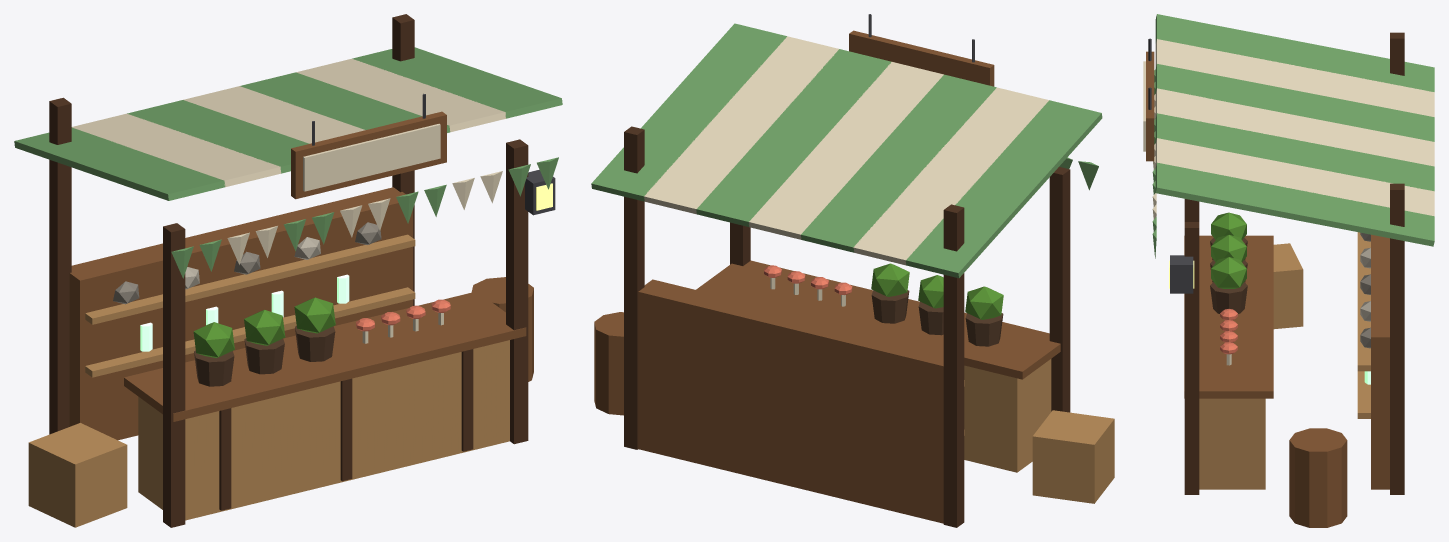
Rendered from Stand_Erde.fbx.
The picture shows the model from 3 angles, left to right: view 1: azimuth 30°, elevation 25°; view 2: azimuth 150°, elevation 25°; view 3: azimuth 270°, elevation 25°; orthographic projection. The views are drawn at different scales.
Visible parts, largest first — view 1: Stand_Erde; view 2: Stand_Erde; view 3: Stand_Erde.
Boxes of the visible parts, box(x1,y1,x2,y2) form: Stand_Erde: box(14, 14, 562, 527); Stand_Erde: box(591, 14, 1114, 527); Stand_Erde: box(1143, 14, 1434, 527).
Size of the model in its own units: 5.12 by 3.7 by 2.77.
